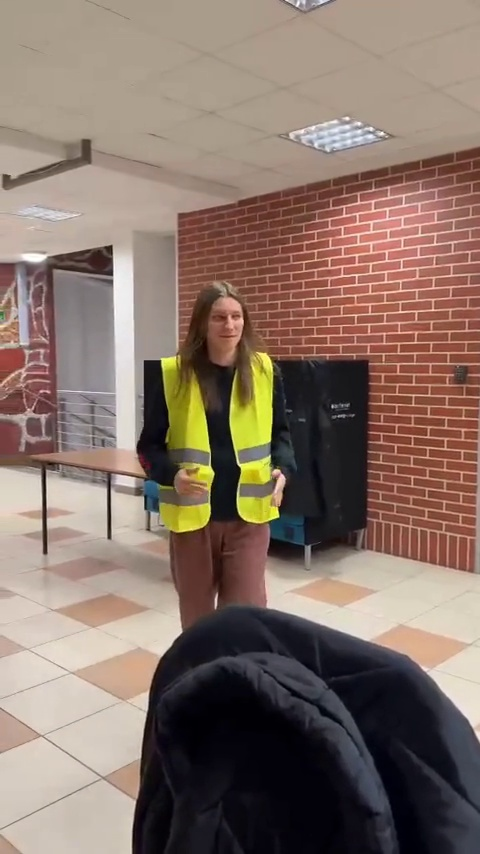vest: (132, 283, 300, 624)
